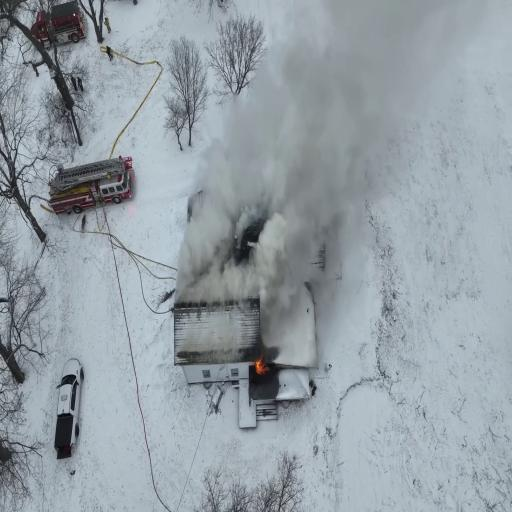fire: (253, 356, 266, 374)
smoke: (180, 220, 280, 302)
